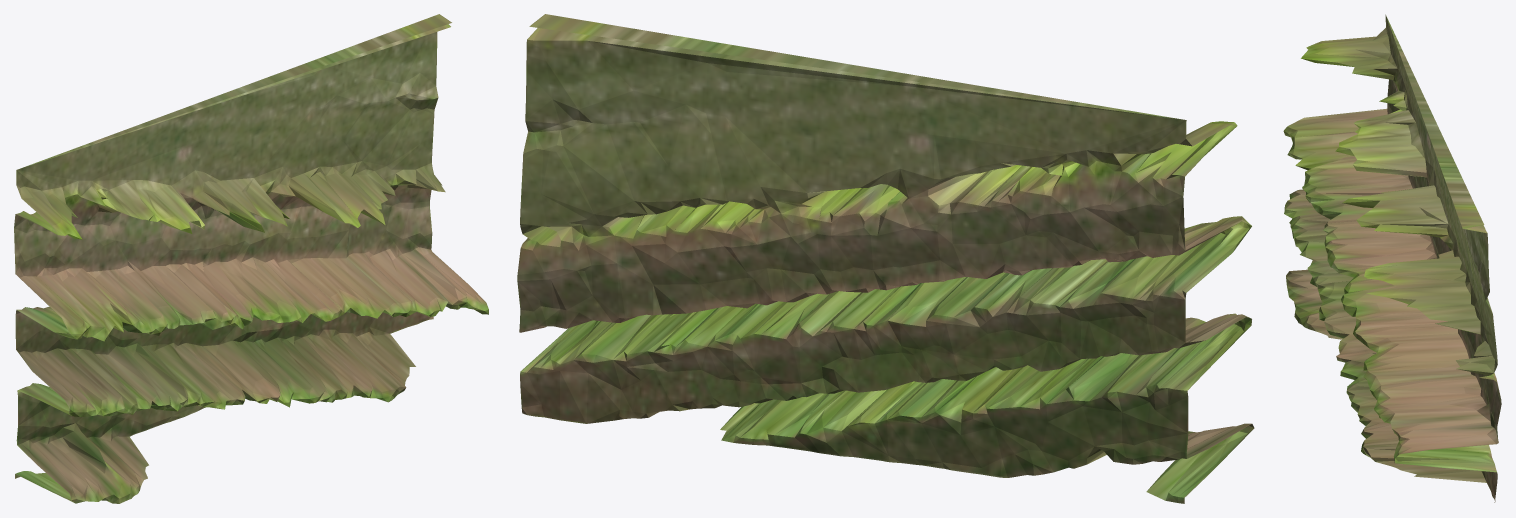
The model's file is map_270_0.obj.
3 views of the same model, side by side, from view 1: azimuth 30°, elevation 25°; view 2: azimuth 150°, elevation 25°; view 3: azimuth 270°, elevation 25° (orthographic). The views are drawn at different scales.
Visible parts, largest first — view 1: grp1; view 2: grp1; view 3: grp1.
Boxes of the visible parts, x1,y1,x2,y2 form: grp1: (14,14,488,503); grp1: (517,14,1254,503); grp1: (1283,14,1501,502).
Bounding box in the file's own units: 10 × 6.2 × 4.38.
Materials: 1 (1 with a texture image).
